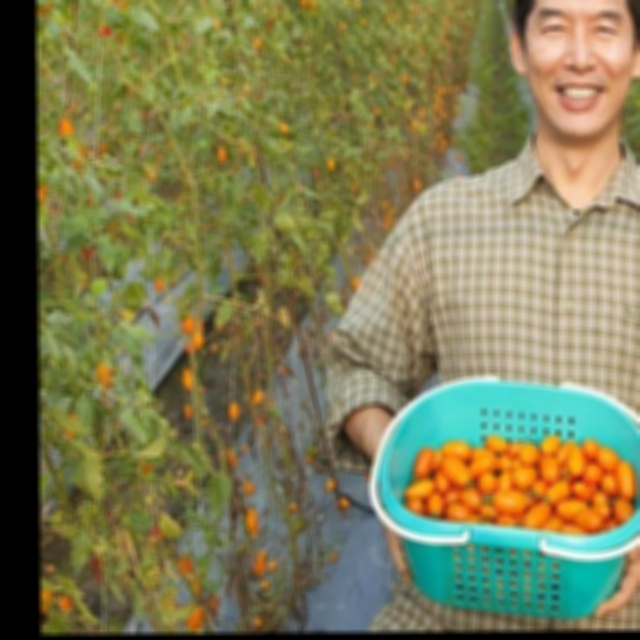Sin_Casco_Mascarrilla: (509, 0, 640, 140)
Sin_Chaleco: (425, 145, 640, 453)
